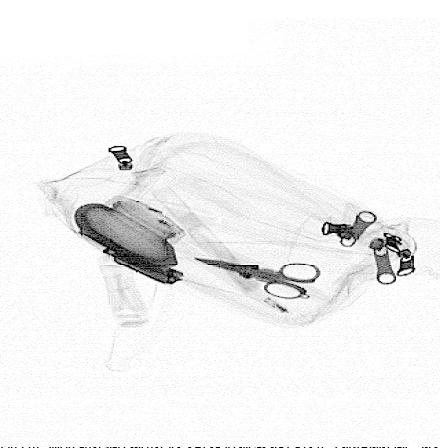Scissors: (194, 253, 322, 302)
